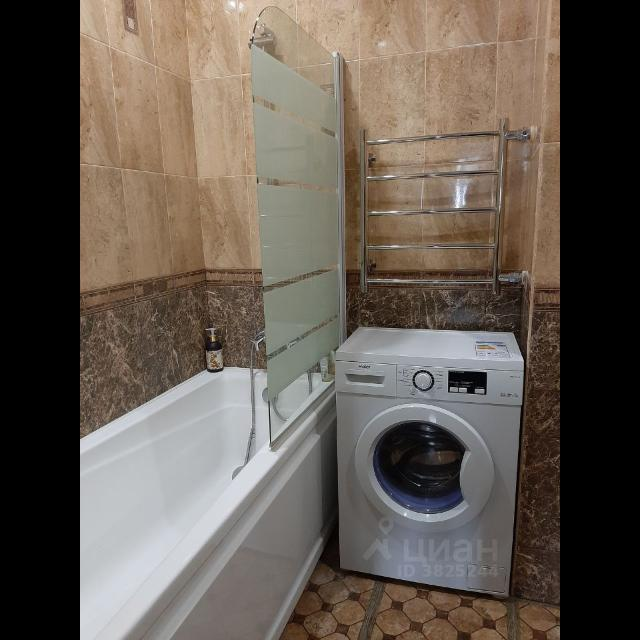Washing-Machine: (336, 335, 522, 599)
